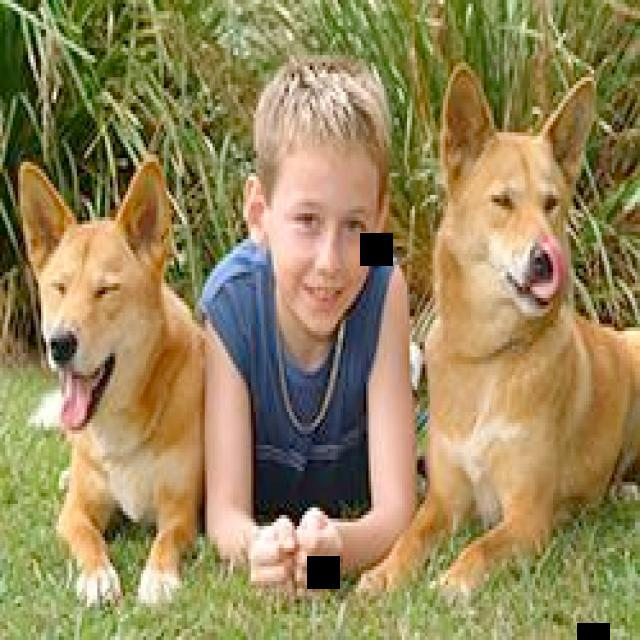adult_dog: (359, 60, 640, 609), (19, 156, 210, 609)
non-dog: (191, 49, 424, 596)
